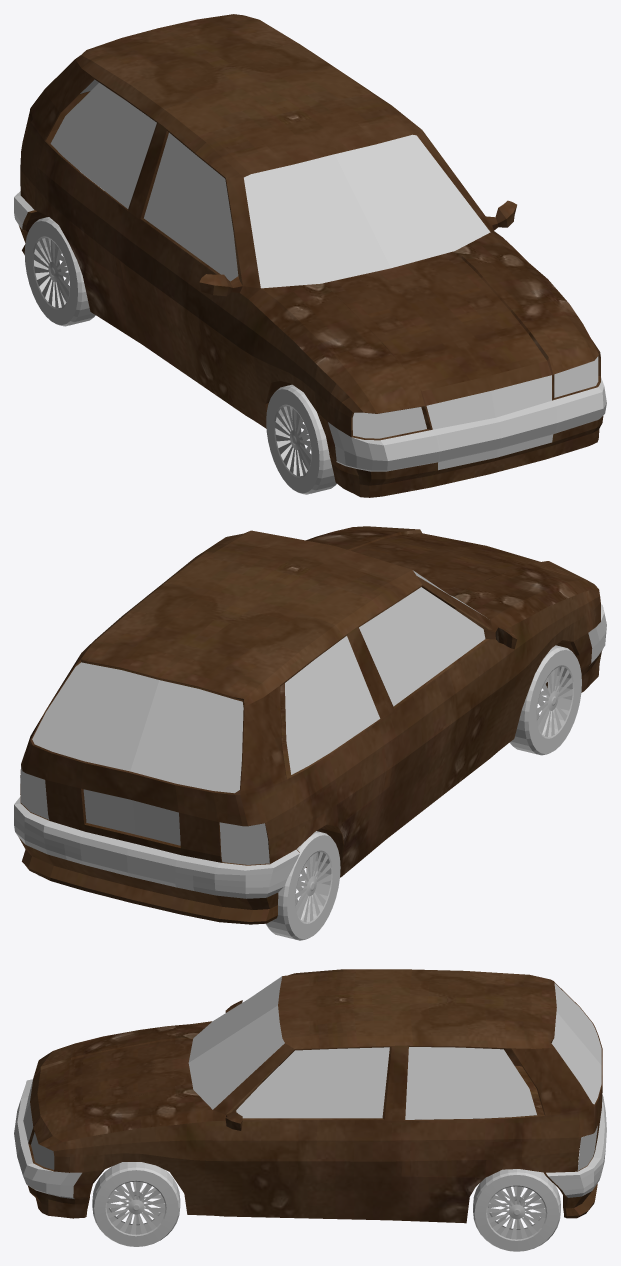
The model's file is Car.fbx.
3 renders of one model, top to bottom at view 1: azimuth 30°, elevation 25°; view 2: azimuth 150°, elevation 25°; view 3: azimuth 270°, elevation 25°, orthographic. The views are drawn at different scales.
Parts seen in each view (by area): view 1: Body_Plane, Parabrezza_Plane.003, GrigliaAnt_Body_Plane.001, FinestriniAnt_Plane.004, FinestriniPost_Plane.005, Circle.002_Circle.001, Circle.003, Fari_Plane.002; view 2: Body_Plane, VetroPost_Plane.006, GrigliaPost_Body_Plane.002, FinestriniAnt_Plane.004, FinestriniPost_Plane.005, Circle.002_Circle.001, Circle.003, Targa_Body_Plane.003, StopDX_Body_Plane.005, StopSX_Body_Plane.004, GrigliaAnt_Body_Plane.001; view 3: Body_Plane, FinestriniAnt_Plane.004, FinestriniPost_Plane.005, Parabrezza_Plane.003, Circle_Circle.002, Circle.001_Circle.000, VetroPost_Plane.006, GrigliaAnt_Body_Plane.001, GrigliaPost_Body_Plane.002, StopSX_Body_Plane.004, Fari_Plane.002.
Part boxes in pixels (left/top/right/bottom): Body_Plane: left=19, top=14, right=603, bottom=497; Parabrezza_Plane.003: left=244, top=134, right=490, bottom=288; GrigliaAnt_Body_Plane.001: left=328, top=375, right=606, bottom=471; FinestriniAnt_Plane.004: left=144, top=132, right=238, bottom=281; FinestriniPost_Plane.005: left=50, top=83, right=156, bottom=208; Circle.002_Circle.001: left=266, top=384, right=336, bottom=494; Circle.003: left=24, top=217, right=95, bottom=326; Fari_Plane.002: left=352, top=356, right=598, bottom=438; Body_Plane: left=19, top=526, right=602, bottom=924; VetroPost_Plane.006: left=32, top=662, right=243, bottom=793; GrigliaPost_Body_Plane.002: left=14, top=796, right=299, bottom=898; FinestriniAnt_Plane.004: left=359, top=587, right=485, bottom=706; FinestriniPost_Plane.005: left=285, top=636, right=380, bottom=774; Circle.002_Circle.001: left=509, top=645, right=581, bottom=755; Circle.003: left=265, top=831, right=340, bottom=940; Targa_Body_Plane.003: left=83, top=789, right=180, bottom=845; StopDX_Body_Plane.005: left=219, top=822, right=269, bottom=864; StopSX_Body_Plane.004: left=20, top=766, right=49, bottom=819; GrigliaAnt_Body_Plane.001: left=588, top=604, right=606, bottom=665; Body_Plane: left=27, top=969, right=602, bottom=1223; FinestriniAnt_Plane.004: left=236, top=1047, right=389, bottom=1118; FinestriniPost_Plane.005: left=405, top=1047, right=536, bottom=1119; Parabrezza_Plane.003: left=188, top=976, right=284, bottom=1109; Circle_Circle.002: left=92, top=1162, right=180, bottom=1246; Circle.001_Circle.000: left=473, top=1169, right=560, bottom=1251; VetroPost_Plane.006: left=551, top=983, right=601, bottom=1104; GrigliaAnt_Body_Plane.001: left=14, top=1079, right=81, bottom=1198; GrigliaPost_Body_Plane.002: left=546, top=1094, right=606, bottom=1197; StopSX_Body_Plane.004: left=577, top=1126, right=597, bottom=1170; Fari_Plane.002: left=31, top=1132, right=54, bottom=1169.
Bounding box in the file's own units: 2.43 × 1.87 × 4.95.
